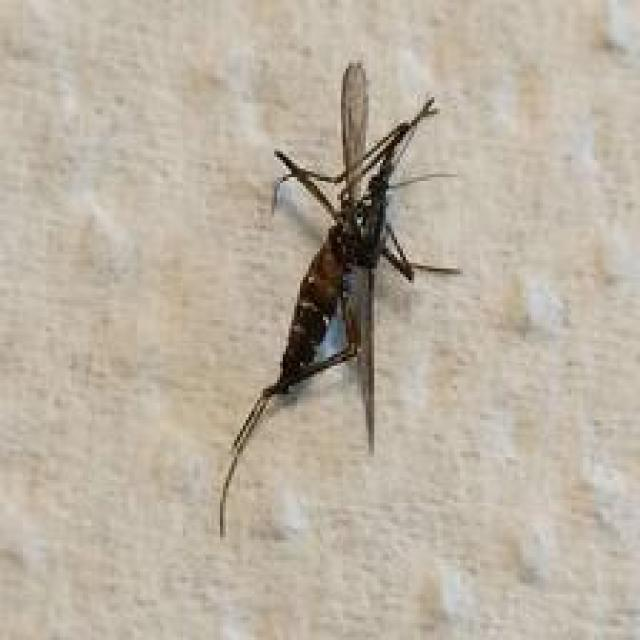Aedes albopictus: (217, 59, 463, 538)
